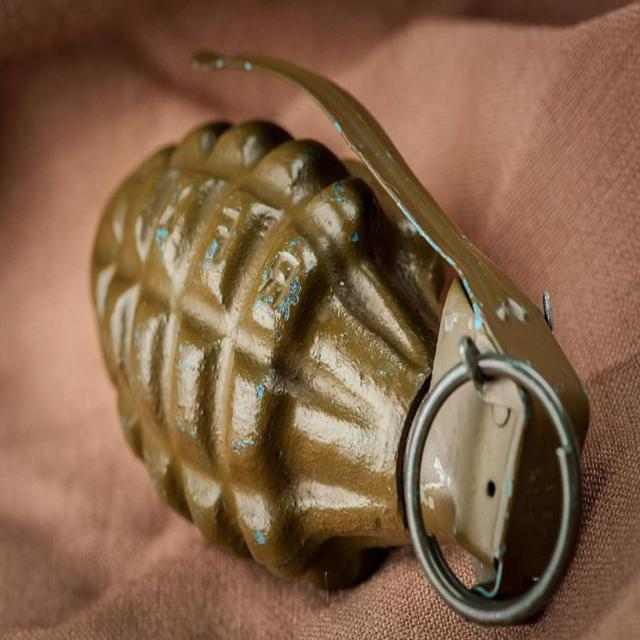grenade: (90, 53, 592, 629)
